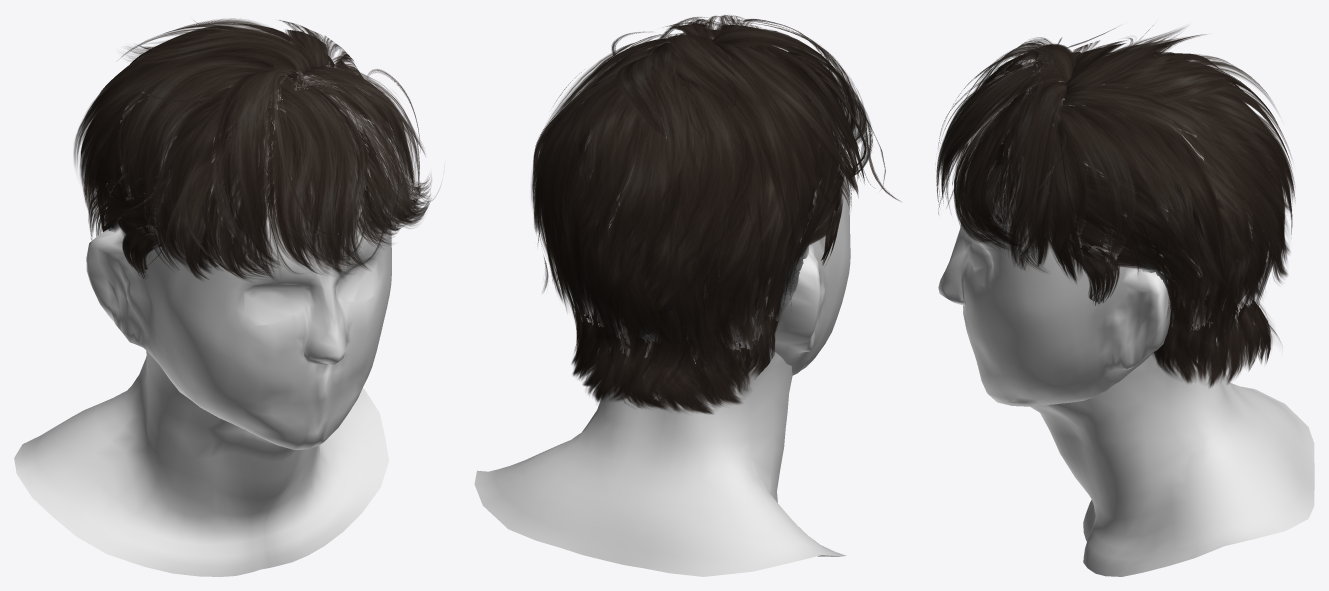
The model's file is Wavy Fringe.glb.
3 views of the same model, side by side, from view 1: azimuth 30°, elevation 25°; view 2: azimuth 150°, elevation 25°; view 3: azimuth 270°, elevation 25° (orthographic). The views are drawn at different scales.
Parts seen in each view (by area): view 1: round wavy 02 fringe, NECK - OVAL SHAPE.002, KUPING BARU.001; view 2: round wavy 02 fringe, NECK - OVAL SHAPE.002, KUPING BARU.001, base; view 3: round wavy 02 fringe, NECK - OVAL SHAPE.002, KUPING BARU.001.
Boxes of the visible parts, x1,y1,x2,y2 form: round wavy 02 fringe: (73, 18, 439, 281); NECK - OVAL SHAPE.002: (14, 351, 388, 576); KUPING BARU.001: (86, 75, 391, 449); round wavy 02 fringe: (531, 15, 900, 414); NECK - OVAL SHAPE.002: (474, 311, 846, 576); KUPING BARU.001: (590, 133, 850, 375); base: (624, 238, 823, 340); round wavy 02 fringe: (936, 25, 1295, 387); NECK - OVAL SHAPE.002: (1030, 321, 1314, 576); KUPING BARU.001: (938, 84, 1251, 406).
Bounding box in the file's own units: 0.2726 × 0.4029 × 0.269.
3 materials, 2 textured.
